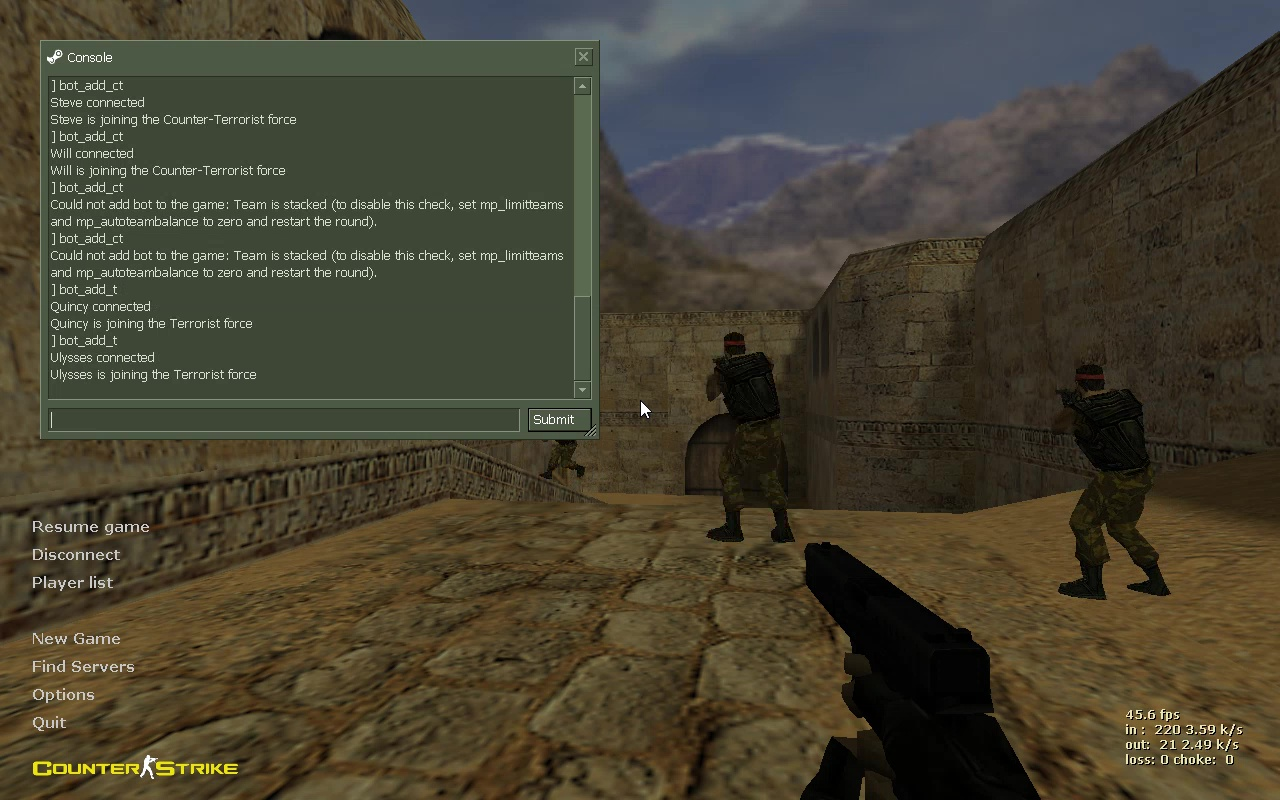terr1: (1045, 364, 1168, 600), (700, 334, 790, 542)
